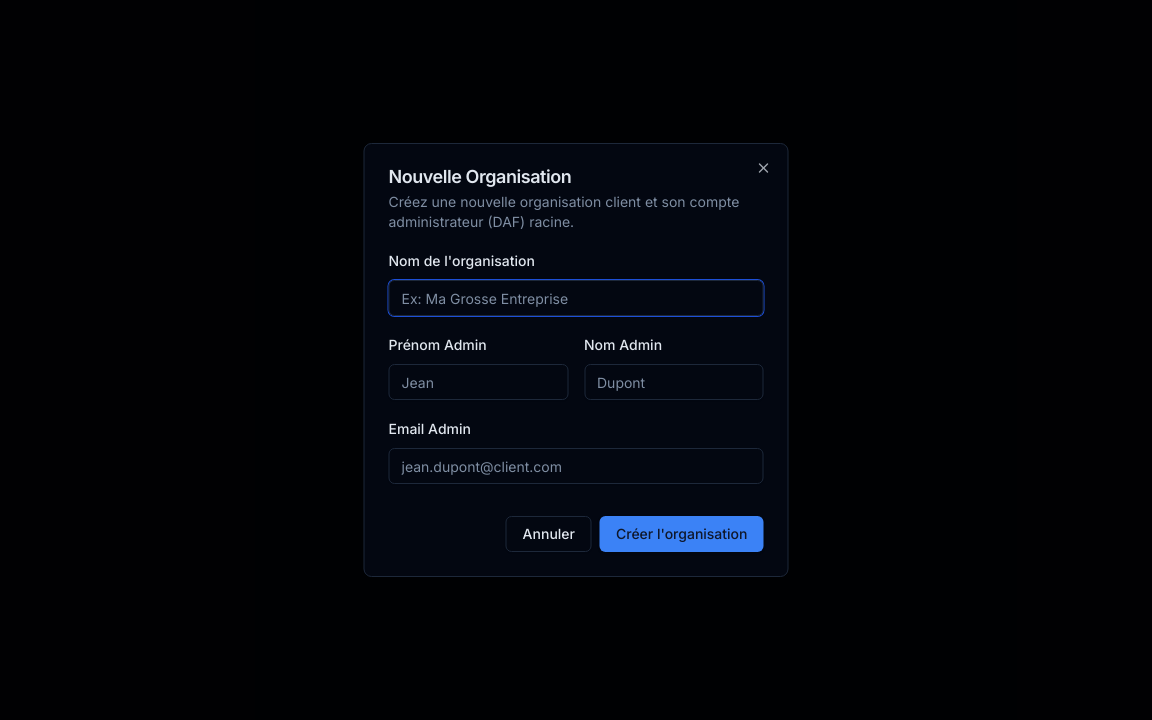
CreateOrganizationModal › shows validation errors when submitting empty form
Click the button "Créer l'organisation". click: (682, 534)
box: [600,516,764,552]
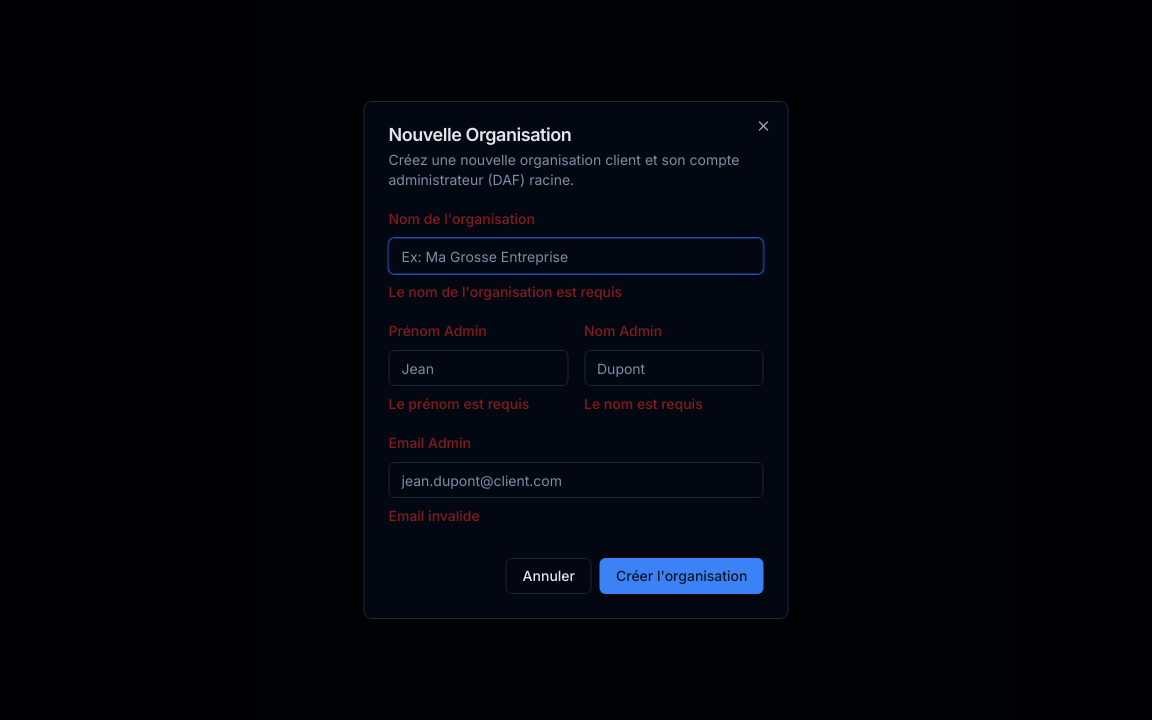
Check: the text "Le nom de l'organisation est requis" is shown, box [388,283,622,300]
